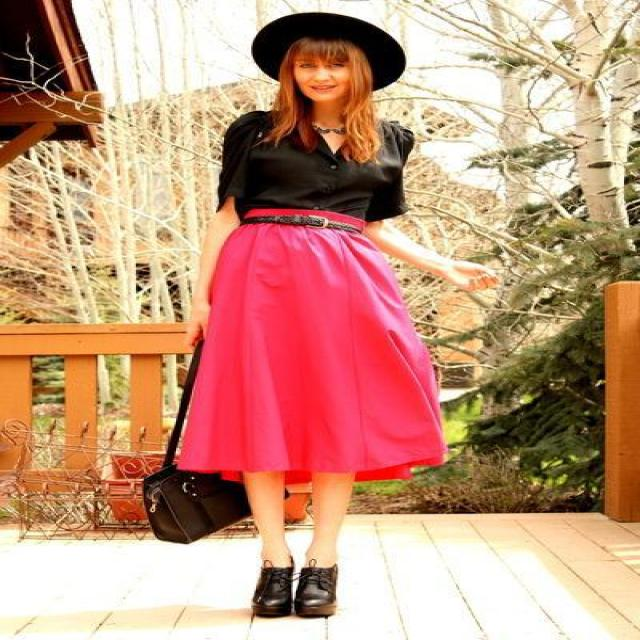bag: (134, 346, 248, 543)
hat: (251, 13, 405, 88)
shirt: (218, 111, 403, 223)
shoe: (251, 561, 325, 621)
skirt: (173, 223, 446, 486)
